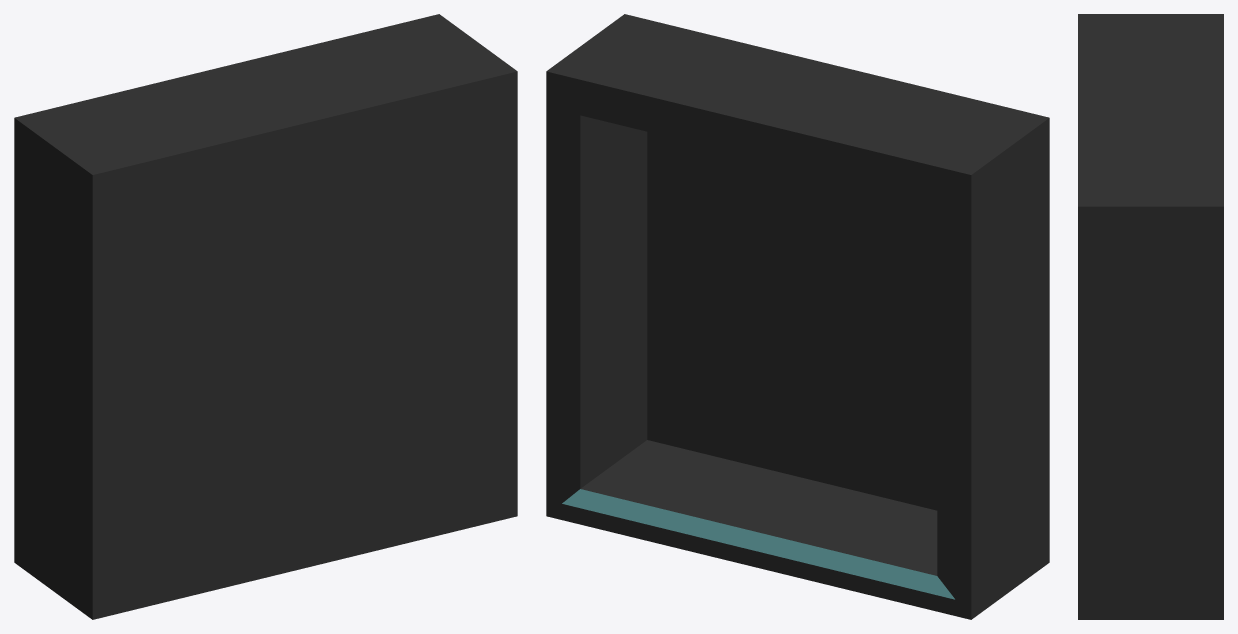
File: Shelf_FBX.fbx
The picture shows the model from 3 angles, left to right: view 1: azimuth 30°, elevation 25°; view 2: azimuth 150°, elevation 25°; view 3: azimuth 270°, elevation 25°; orthographic projection. The views are drawn at different scales.
Parts seen in each view (by area): view 1: SHELF; view 2: SHELF; view 3: SHELF.
Part boxes in pixels (x1,y1,x2,y2): SHELF: [14, 14, 517, 619]; SHELF: [546, 14, 1049, 619]; SHELF: [1078, 14, 1223, 619].
Size of the model in its own units: 52.96 by 52.96 by 16.93.
